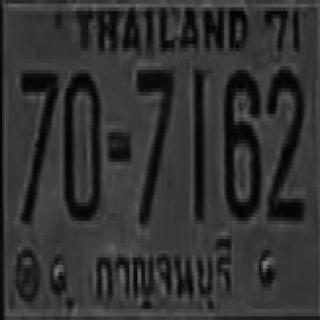N00: (63, 70, 100, 217)
N01: (192, 66, 202, 217)
N02: (266, 66, 303, 217)
N06: (222, 66, 259, 217)
N07: (135, 66, 173, 217), (20, 66, 57, 221)
P17: (92, 228, 238, 311)
